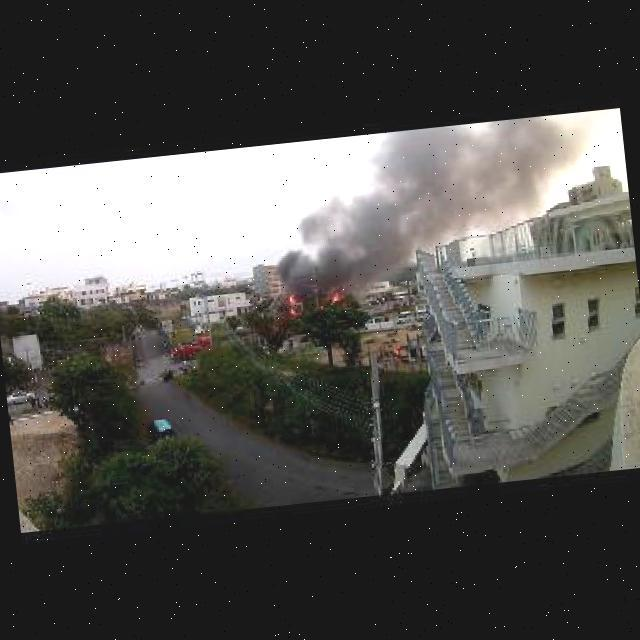Fire: (287, 293, 298, 304), (287, 307, 296, 316), (331, 294, 338, 301)
Smoke: (349, 112, 588, 255), (270, 193, 409, 316)
